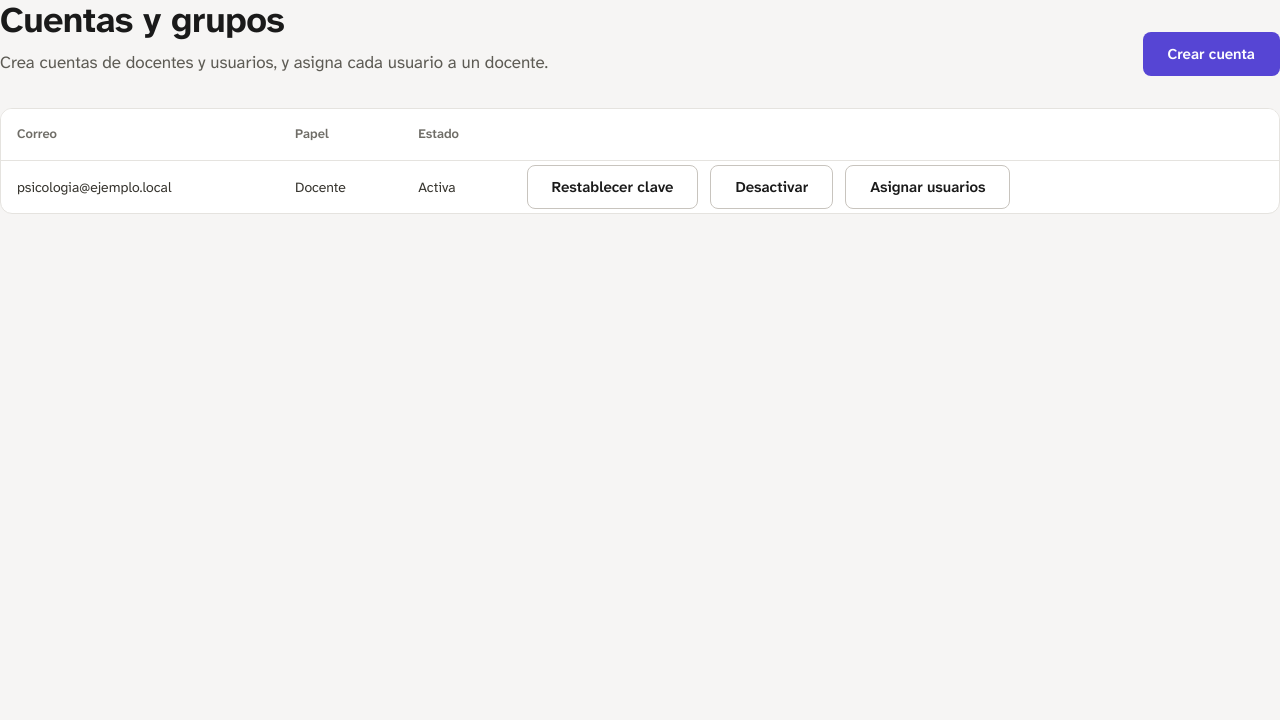
Test case: grupos de docentes › crea cuentas desde un modal y muestra la contraseña provisional en la página
Expected: the field labelled "Correo electrónico" is not shown
Step 1. Click the button "Crear cuenta" → (1211, 54), box top-left (1142, 32), bottom-right (1279, 76)
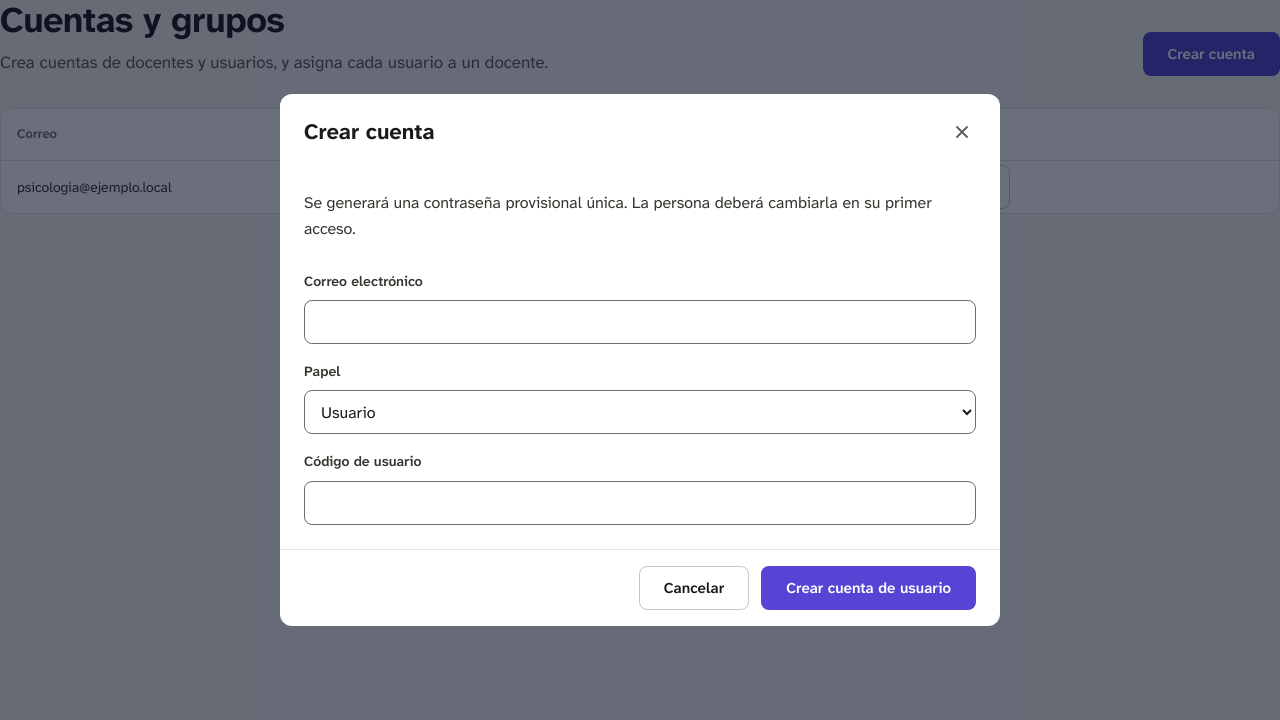
Step 2. Type "nuevo@ejemplo.local" into the field labelled "Correo electrónico" → (640, 322), box top-left (304, 300), bottom-right (976, 344)
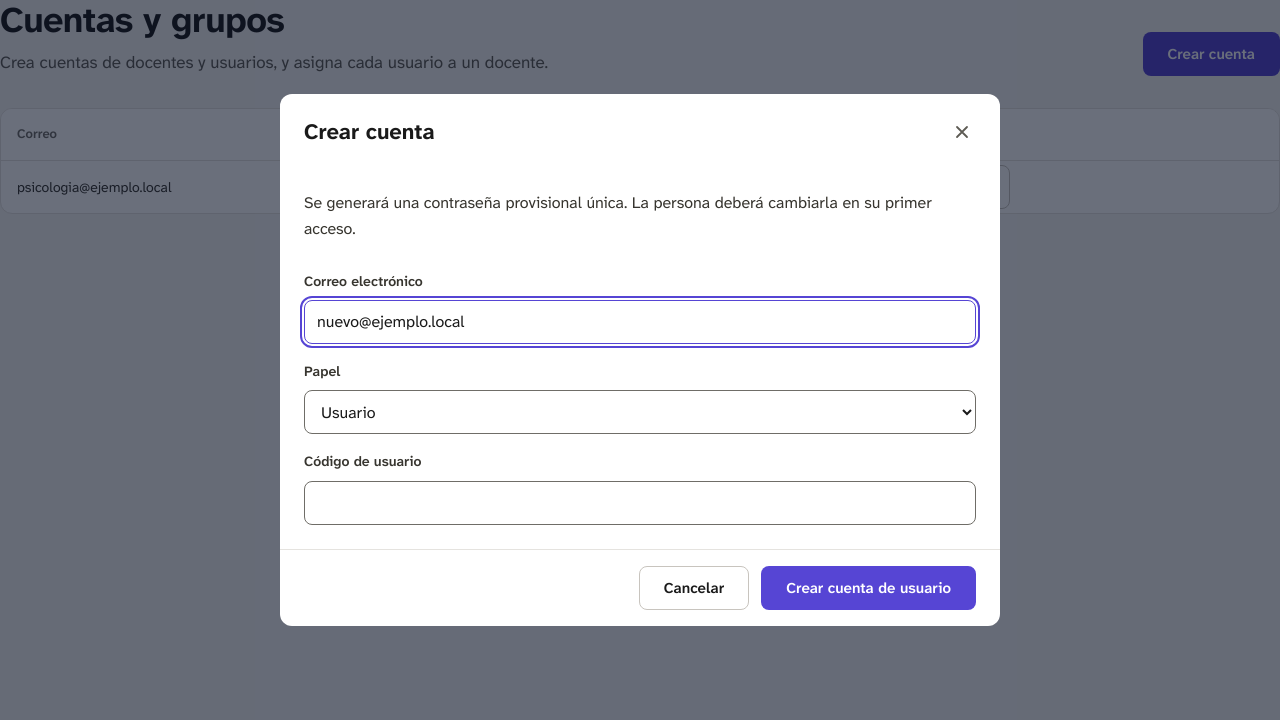
Step 3. Select "Docente" in the dropdown labelled "Papel" → (640, 412), box top-left (304, 390), bottom-right (976, 434)
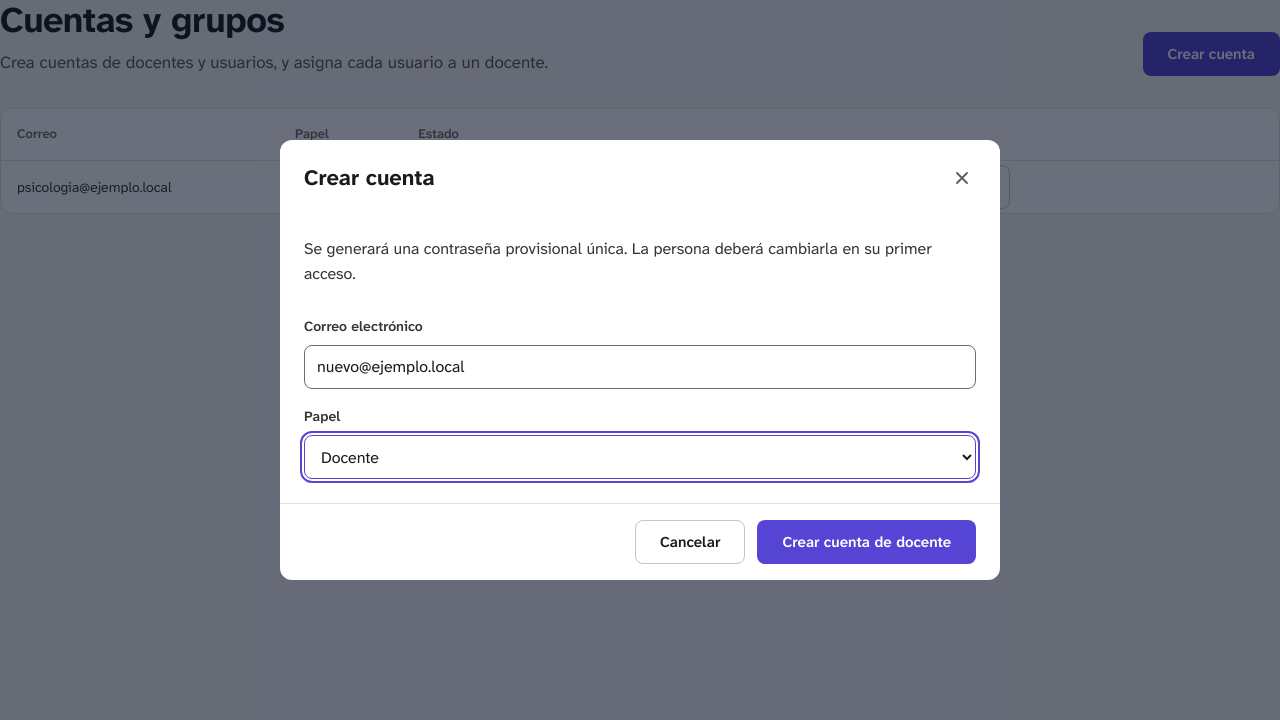
Step 4. Click the button "Crear cuenta de docente" → (867, 542), box top-left (758, 520), bottom-right (976, 564)
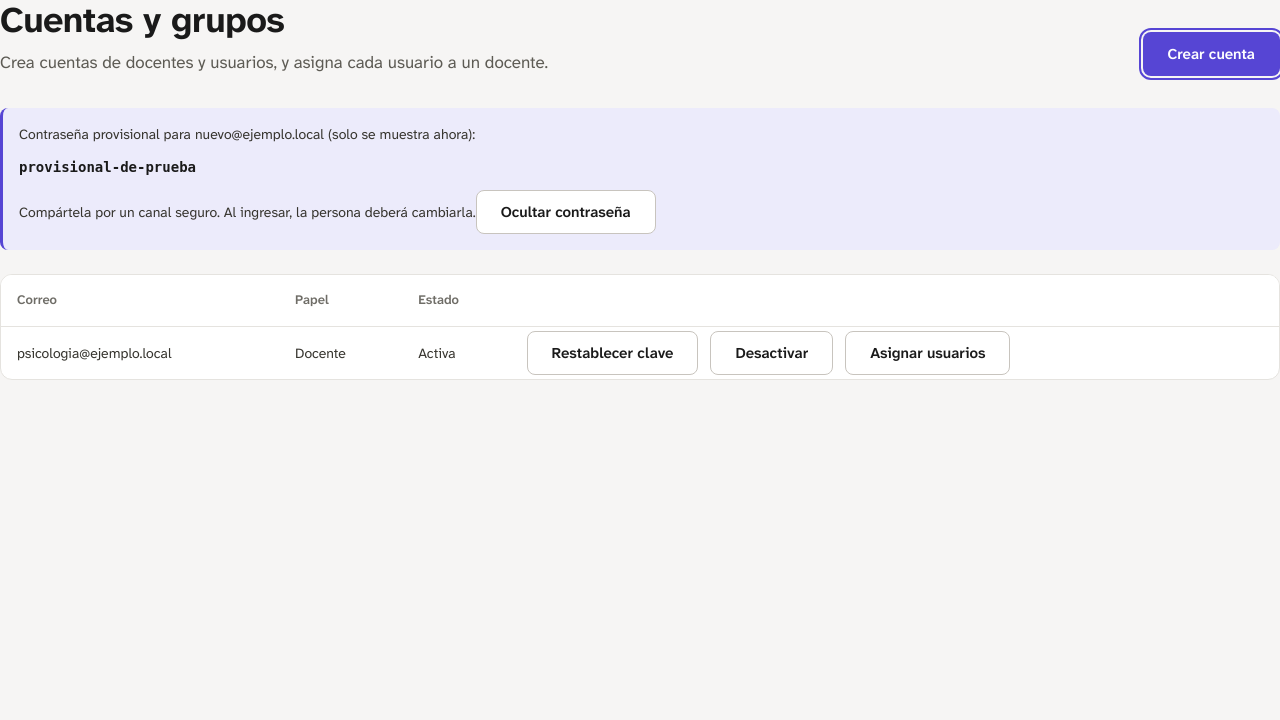
Now the text "provisional-de-prueba" is shown, box top-left (19, 159), bottom-right (196, 175)
Now the dialog is gone
